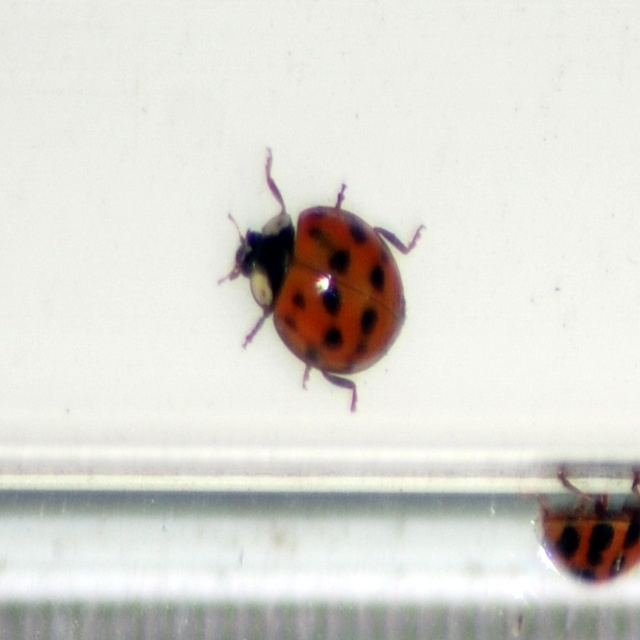Ladybug: (216, 144, 426, 410), (535, 470, 639, 581)
